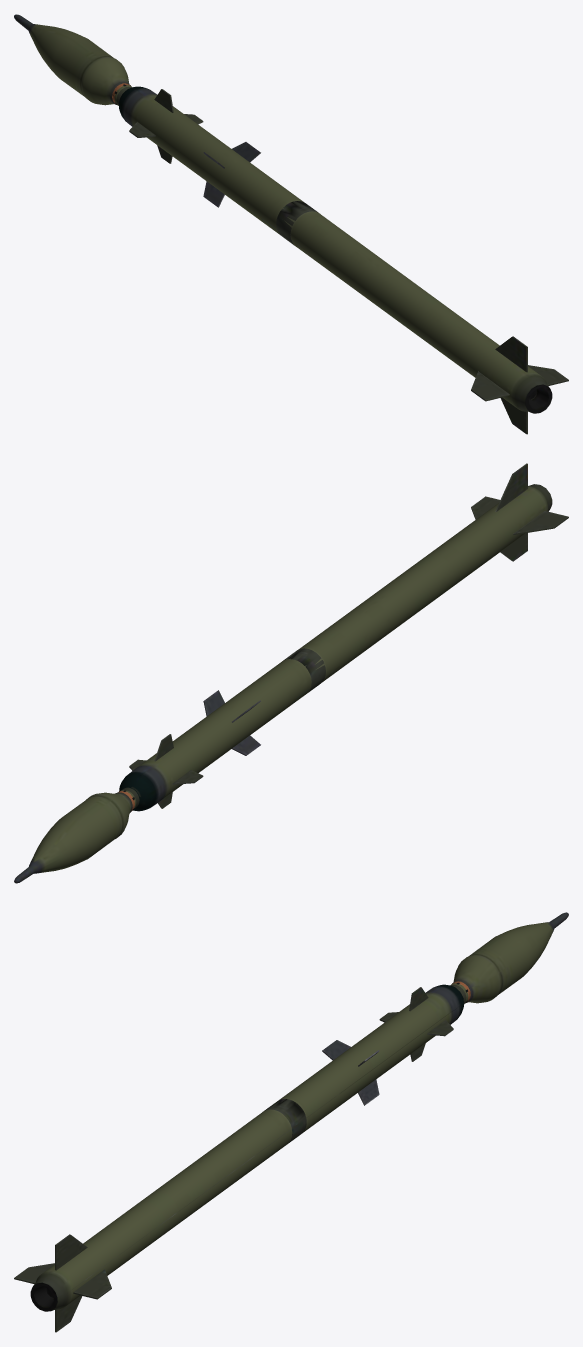
Rendered from projectiles.glb.
3 renders of one model, top to bottom at view 1: azimuth 30°, elevation 25°; view 2: azimuth 150°, elevation 25°; view 3: azimuth 330°, elevation 25°, orthographic.
Visible parts, largest first — view 1: proj_aa, proj_rocket, fins_aa, fins_rocket; view 2: proj_aa, proj_rocket, fins_aa, fins_rocket; view 3: proj_aa, proj_rocket, fins_aa, fins_rocket.
Part boxes in pixels (x1,y1,x2,y2): proj_aa: [118, 86, 552, 413]; proj_rocket: [14, 14, 131, 105]; fins_aa: [129, 89, 568, 434]; fins_rocket: [203, 142, 260, 207]; proj_aa: [119, 484, 552, 811]; proj_rocket: [14, 787, 139, 883]; fins_aa: [129, 463, 568, 808]; fins_rocket: [203, 690, 260, 755]; proj_aa: [30, 984, 464, 1311]; proj_rocket: [451, 912, 568, 1003]; fins_aa: [14, 987, 453, 1332]; fins_rocket: [322, 1040, 379, 1105].
Bounding box in the file's own units: 0.166 × 0.166 × 1.81.
1 material, 1 textured.
